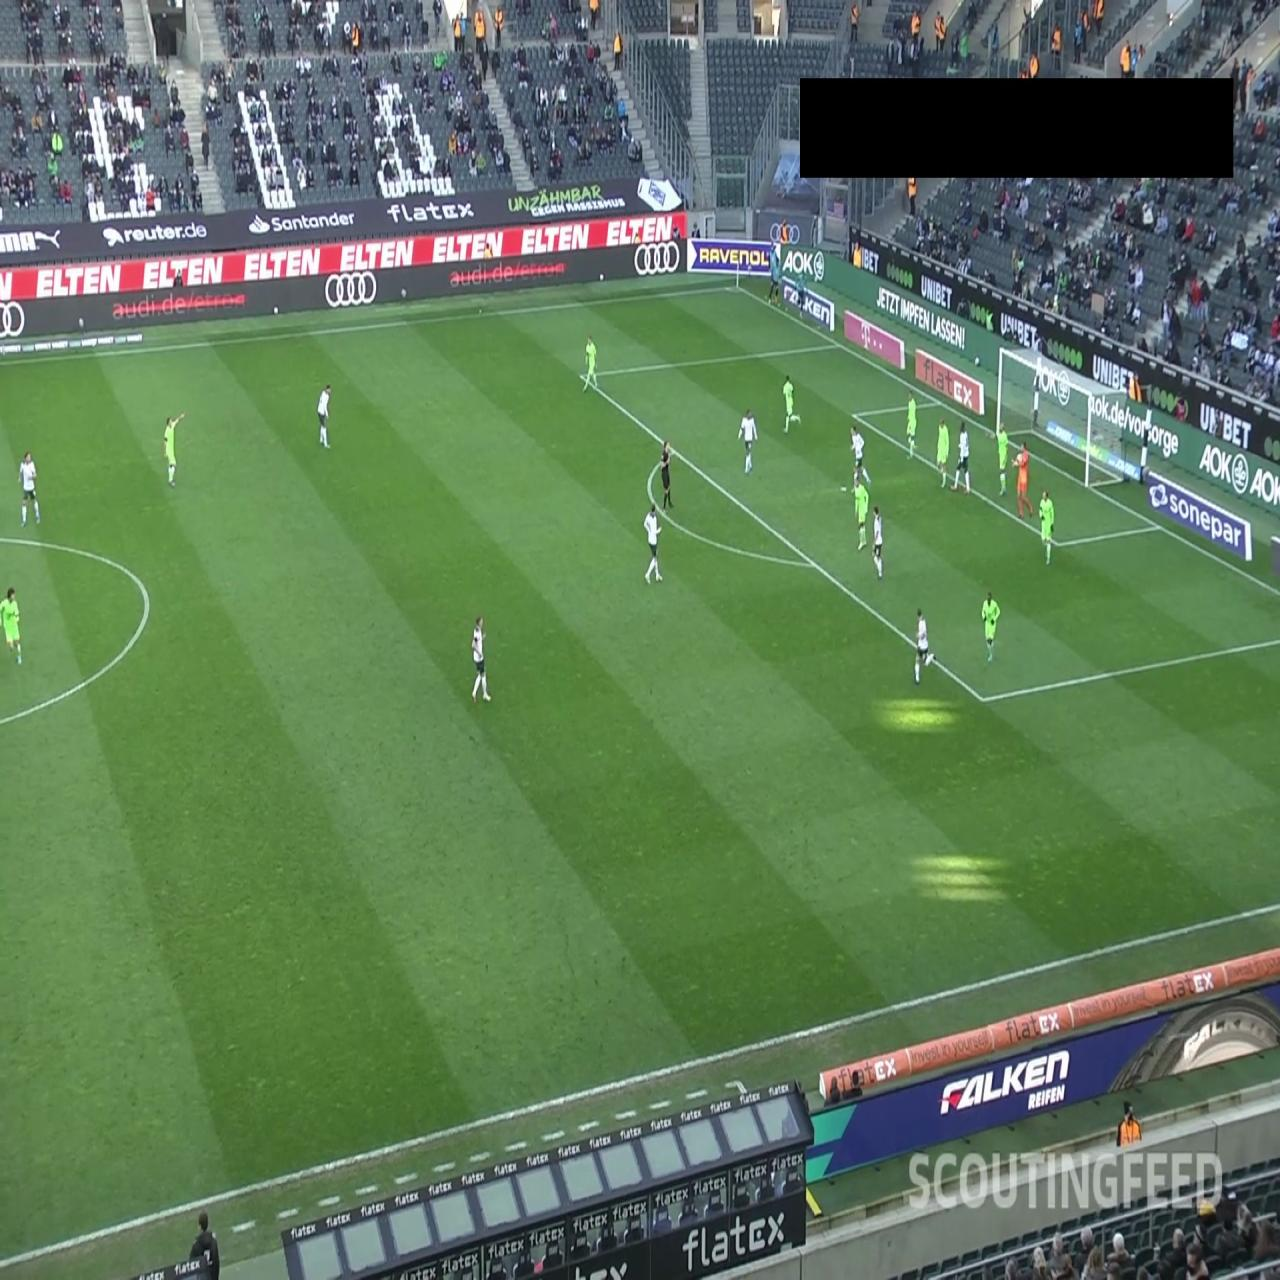ball: (1016, 451, 1023, 466)
goalkeeper: (1011, 442, 1033, 519)
player: (471, 615, 492, 704), (914, 607, 937, 686), (0, 587, 23, 665), (18, 450, 41, 528), (163, 411, 186, 486), (643, 504, 664, 584), (849, 426, 873, 492), (981, 591, 1001, 665), (737, 407, 758, 474), (952, 420, 971, 493), (853, 474, 870, 550), (1039, 488, 1055, 566), (782, 373, 802, 435), (581, 333, 598, 394), (936, 415, 950, 487), (317, 382, 332, 449), (996, 422, 1008, 497), (872, 504, 883, 580), (906, 392, 918, 460)
referee: (660, 440, 673, 511)
